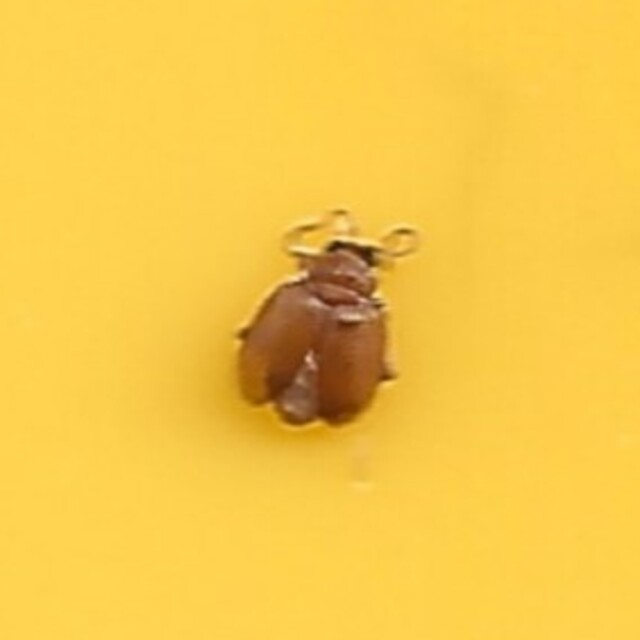Coleoptera: (227, 207, 413, 433)
